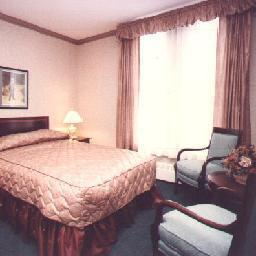Cama: (4, 136, 150, 236)
Ventana: (133, 35, 209, 143)
